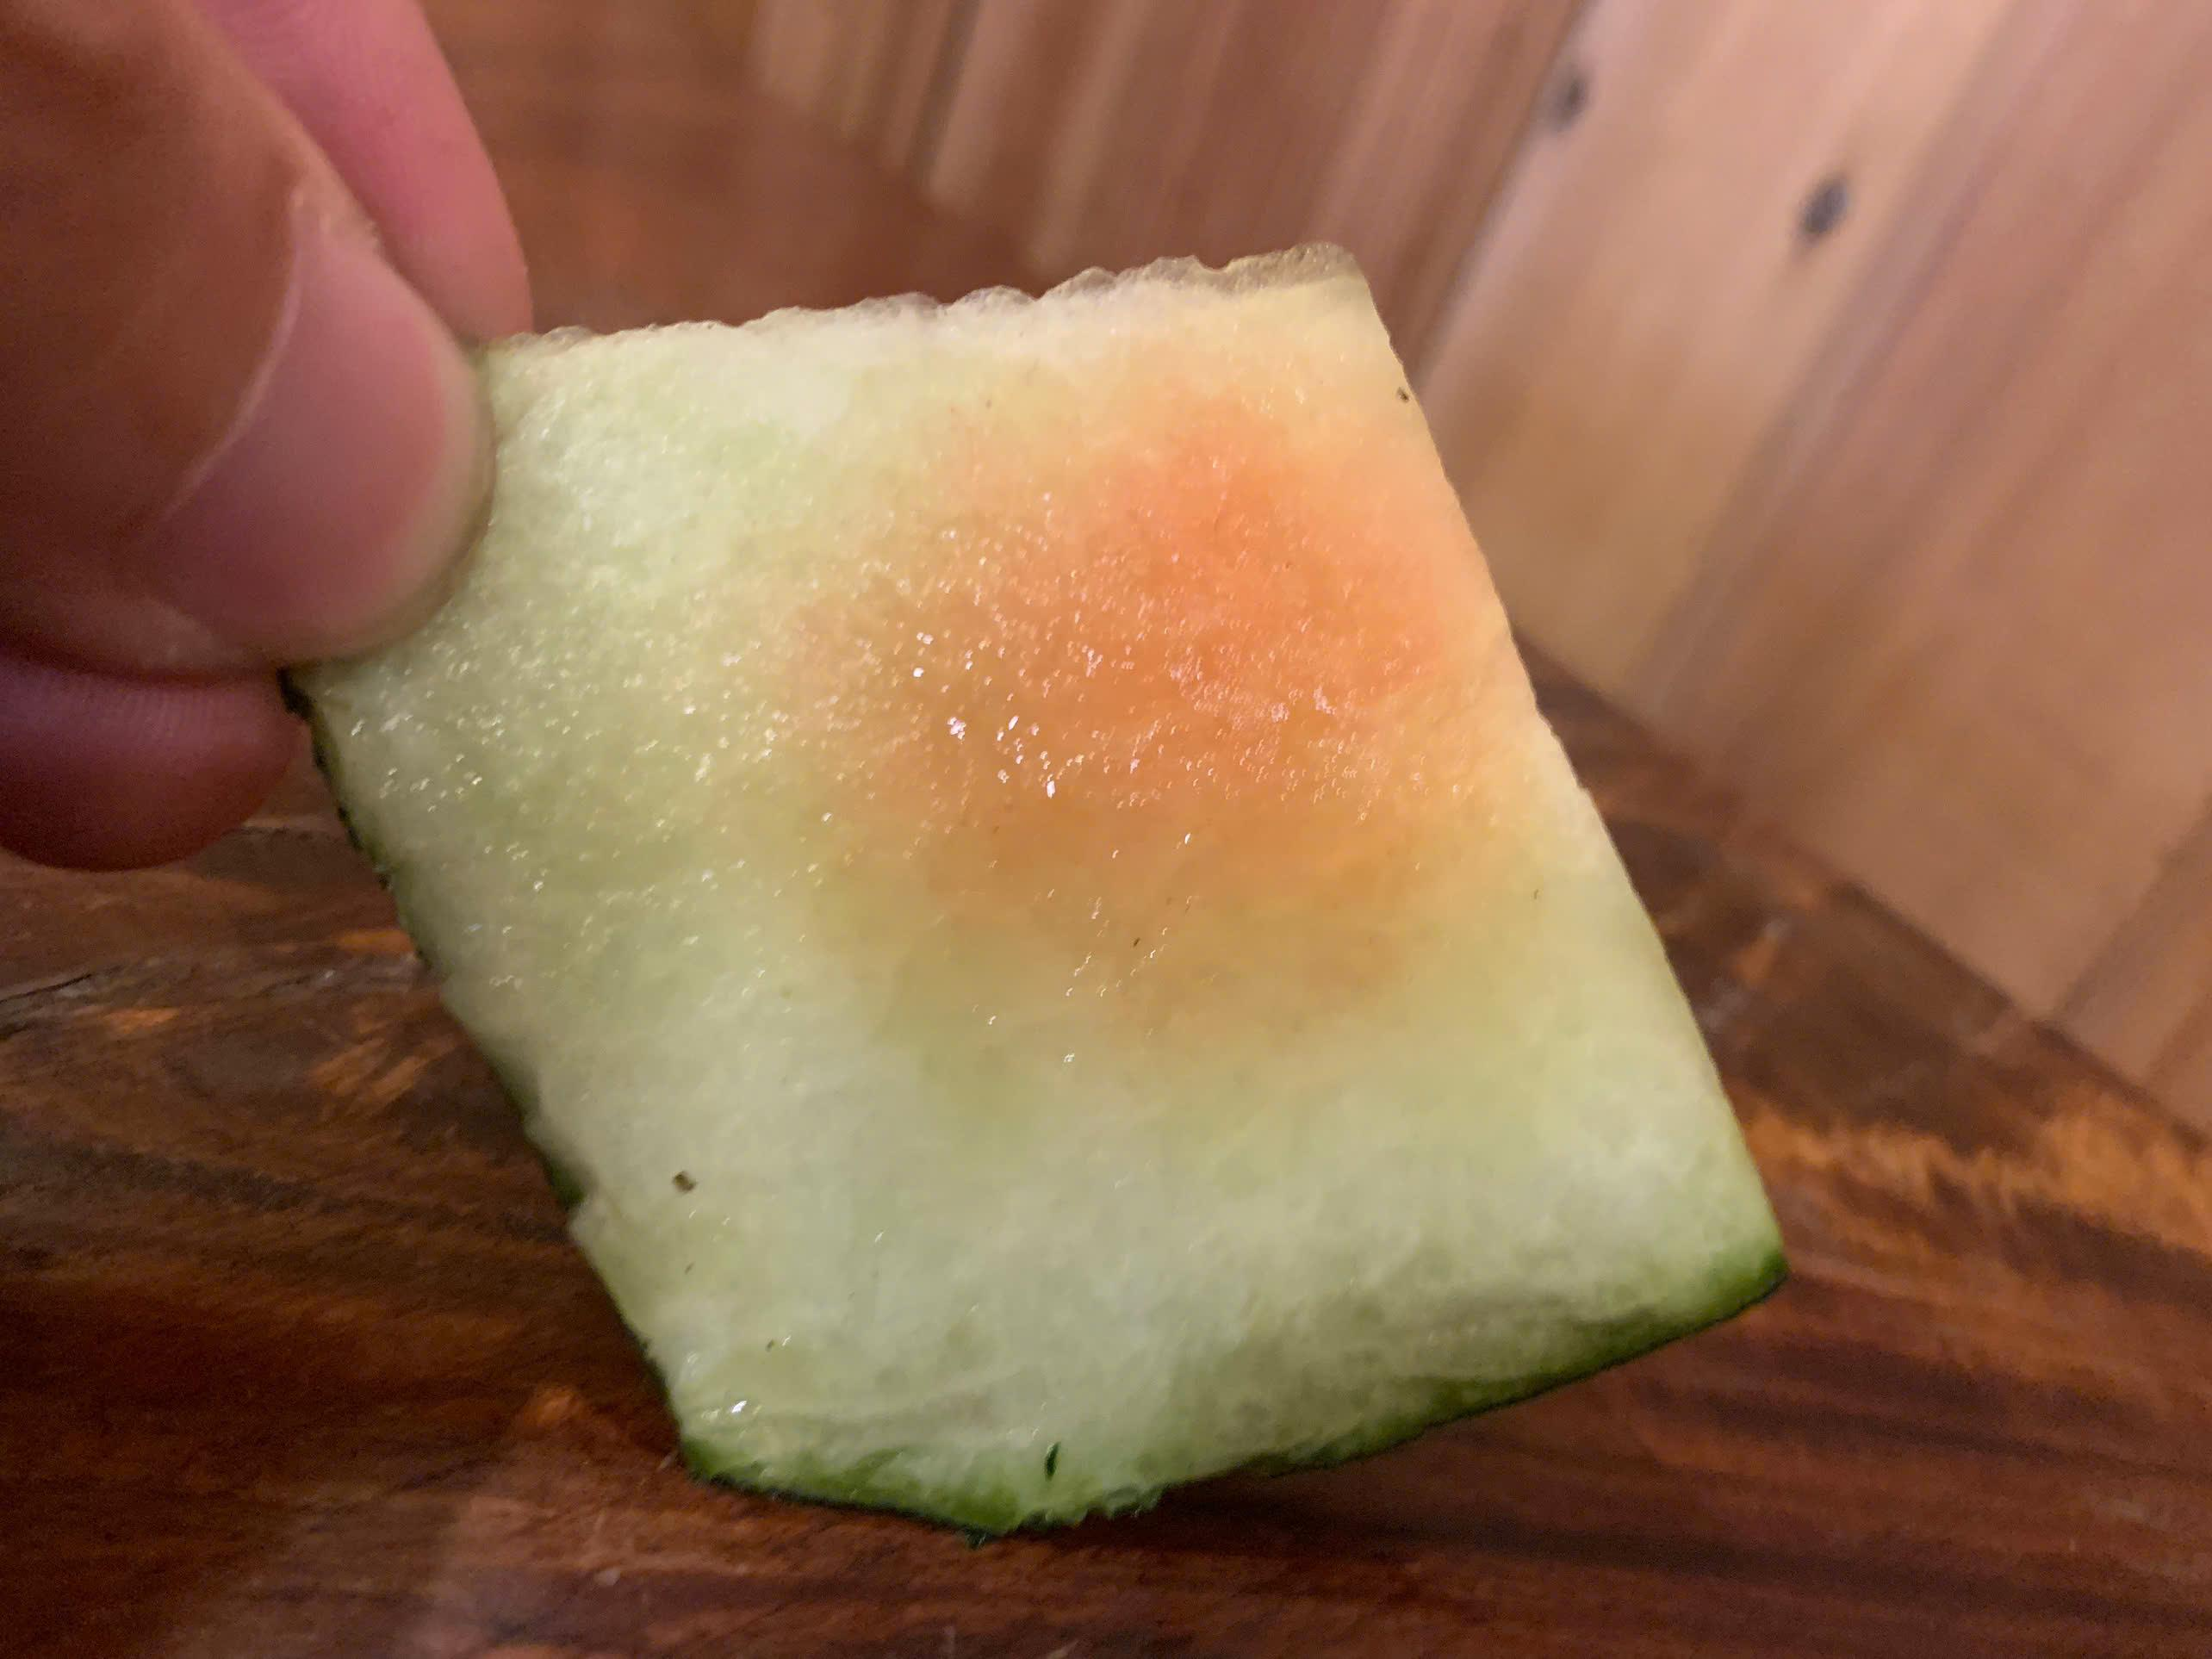Huu co: (310, 251, 1794, 1506)
